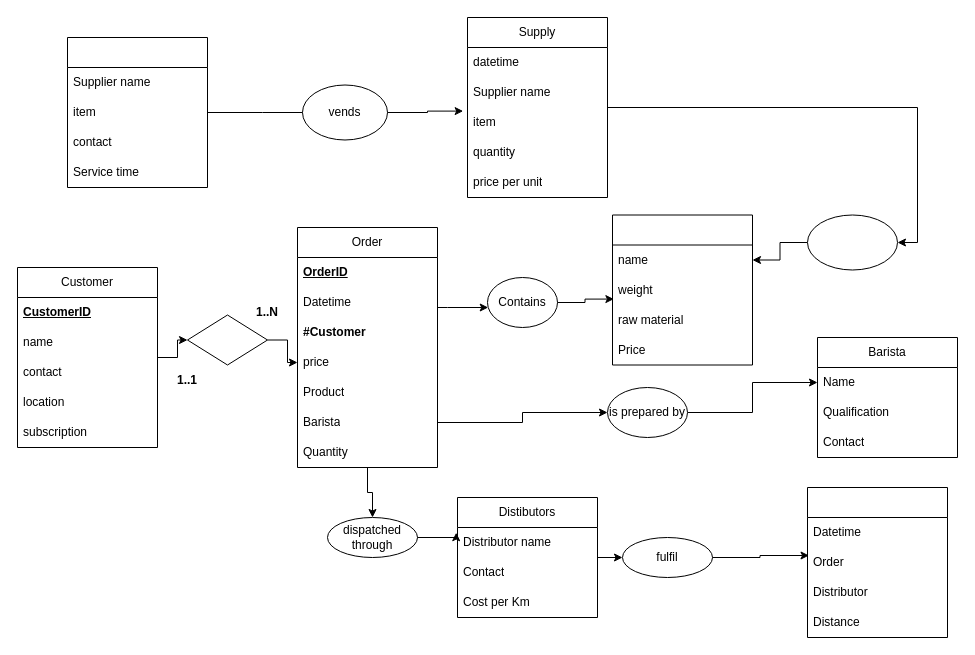
Image size: 975x655. Some labels were removed from this diagram. Here are the shapes that lost their labels. From the top down, the box of each, then its label:
(66, 36, 208, 188): Suppliers
(806, 214, 898, 270): provides raw materials
(612, 214, 752, 365): products
(186, 314, 268, 365): Place
(806, 486, 948, 638): Deliveries
